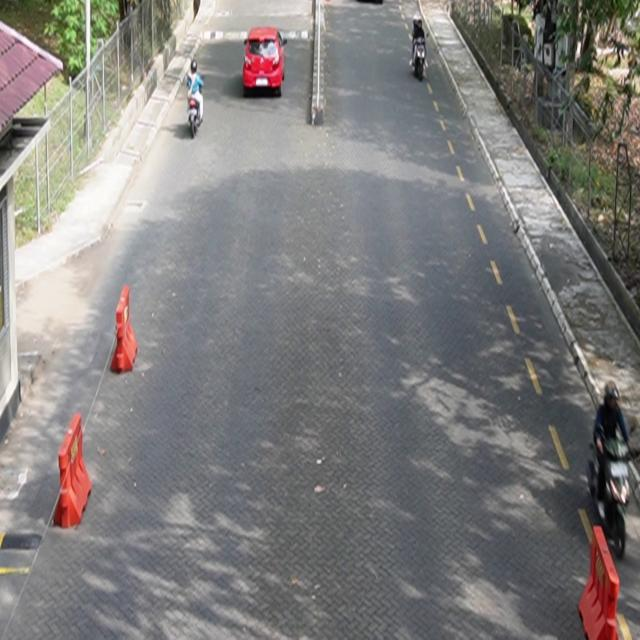car: (243, 27, 288, 98)
